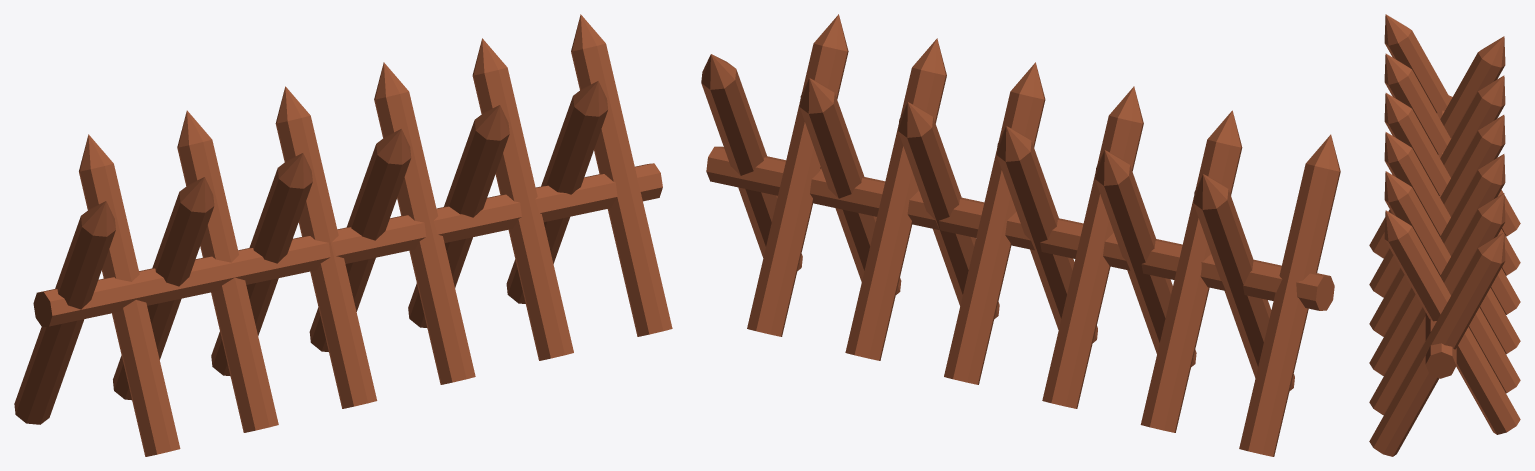
File: PileBlocking.fbx
3 renders of one model, left to right at view 1: azimuth 30°, elevation 25°; view 2: azimuth 150°, elevation 25°; view 3: azimuth 270°, elevation 25°, orthographic. The views are drawn at different scales.
Visible parts, largest first — view 1: PileBlocking; view 2: PileBlocking; view 3: PileBlocking.
Boxes of the visible parts, x1,y1,x2,y2 form: PileBlocking: (14, 14, 672, 456); PileBlocking: (701, 14, 1340, 456); PileBlocking: (1369, 14, 1520, 456).
Size of the model in its own units: 287 by 122 by 75.27.
Materials: 1 (1 with a texture image).
